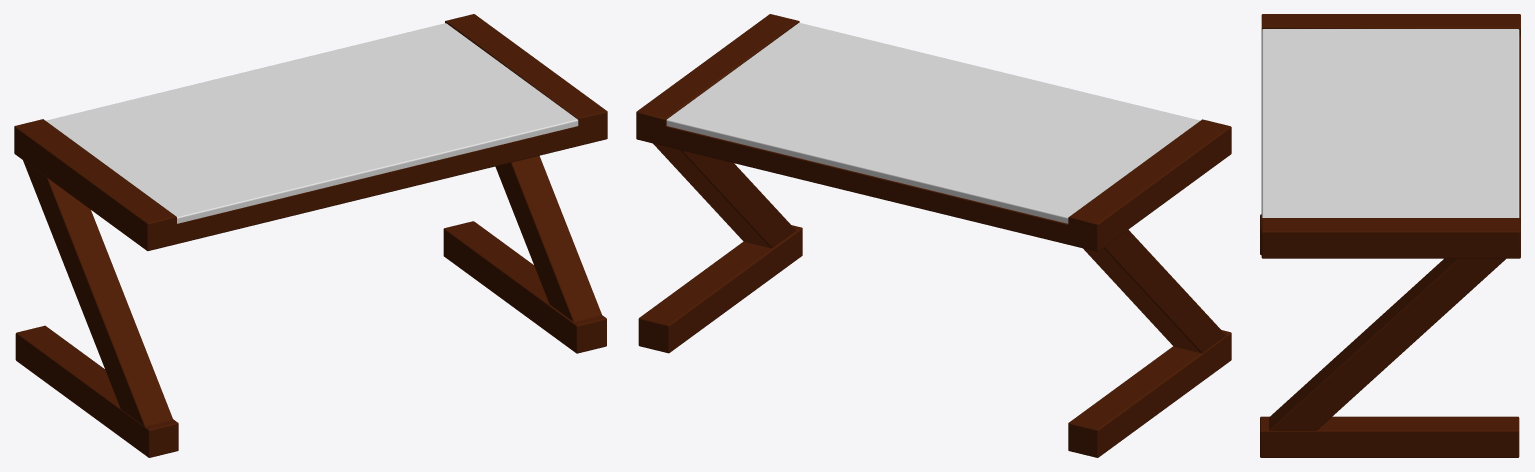
Rendered from Desk.FBX.
3 views of the same model, side by side, from view 1: azimuth 30°, elevation 25°; view 2: azimuth 150°, elevation 25°; view 3: azimuth 270°, elevation 25° (orthographic). The views are drawn at different scales.
Visible parts, largest first — view 1: Box001, Box002; view 2: Box002, Box001; view 3: Box002, Box001.
Boxes of the visible parts, box(x1,y1,x2,y2) form: Box001: box(14, 14, 607, 457); Box002: box(46, 23, 578, 223); Box002: box(666, 22, 1199, 223); Box001: box(636, 14, 1231, 457); Box002: box(1262, 29, 1519, 217); Box001: box(1260, 14, 1520, 457).
Bounding box in the file's own units: 34.68 × 16.87 × 17.53.
